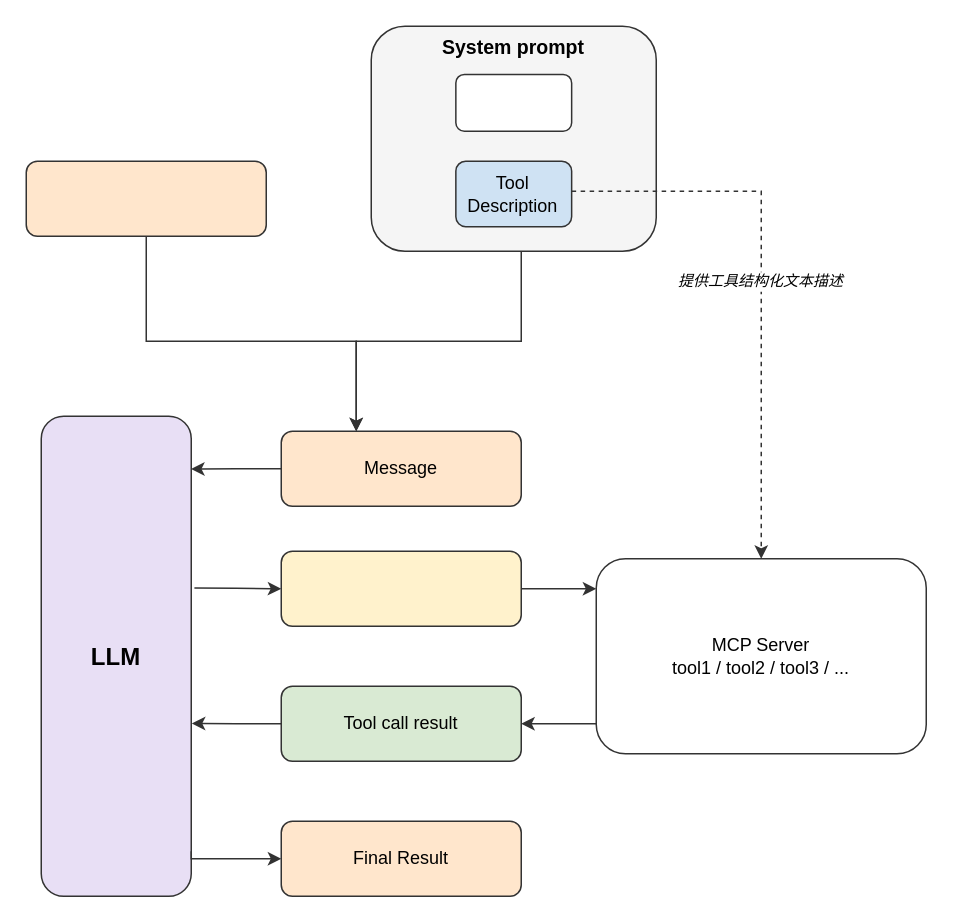
Image size: 953x923. Some labels were removed from this diagram. Here are the shapes that lost their labels. From the top down, the centre of each, then its label:
At point (513, 102): "Instructions".
At point (145, 198): "User Input".
At point (400, 588): "Tool call json".
